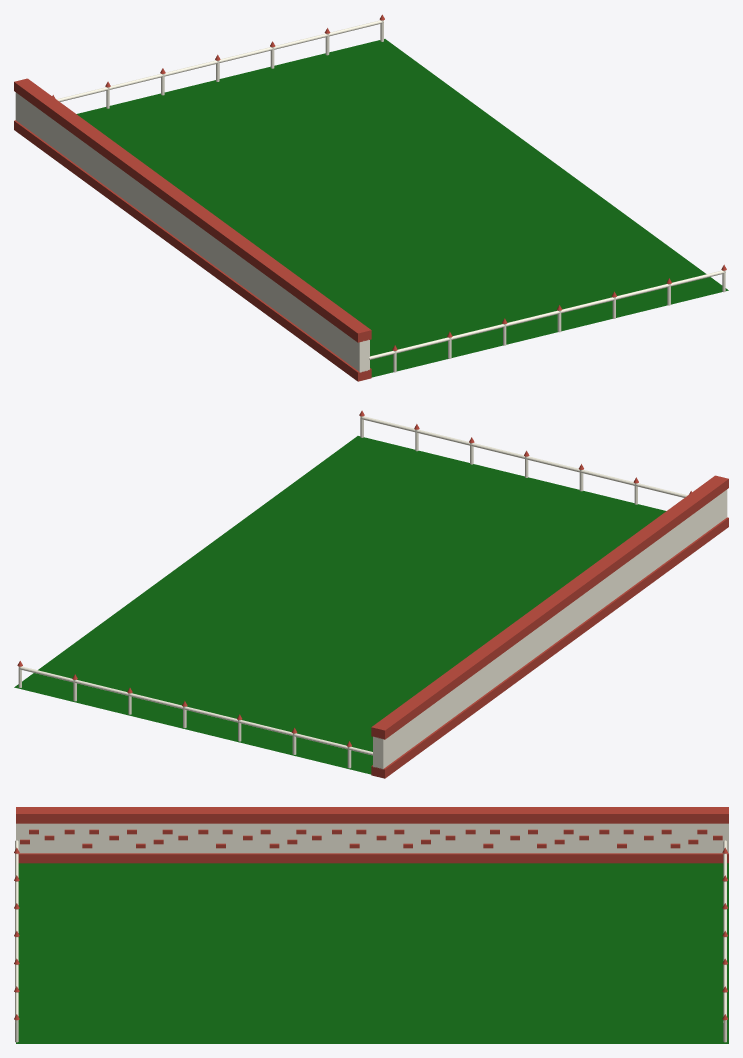
The picture shows the model from 3 angles, top to bottom: view 1: azimuth 30°, elevation 25°; view 2: azimuth 150°, elevation 25°; view 3: azimuth 270°, elevation 25°; orthographic projection. The views are drawn at different scales.
Visible parts, largest first — view 1: Zemin, Duvar_1, Duvar_2, Duvar_3, Cylinder.001, Cylinder.003, Cylinder; view 2: Zemin, Duvar_1, Duvar_3, Duvar_2, Cylinder.003, Cylinder.001, Cylinder.002; view 3: Zemin, Duvar_1, Duvar_2, Duvar_3, Cylinder.001, Cylinder.003.
Part boxes in pixels (<box>): Zemin: <box>76,39,728,377</box>; Duvar_1: <box>14,78,371,381</box>; Duvar_2: <box>57,110,349,365</box>; Duvar_3: <box>35,94,328,349</box>; Cylinder.001: <box>369,270,725,359</box>; Cylinder.003: <box>56,20,383,101</box>; Cylinder: <box>393,270,725,372</box>; Zemin: <box>14,436,666,774</box>; Duvar_1: <box>371,475,728,778</box>; Duvar_3: <box>393,507,685,762</box>; Duvar_2: <box>414,491,707,746</box>; Cylinder.003: <box>18,666,372,755</box>; Cylinder.001: <box>360,416,687,497</box>; Cylinder.002: <box>18,666,351,768</box>; Zemin: <box>16,863,728,1043</box>; Duvar_1: <box>16,807,728,863</box>; Duvar_2: <box>60,807,639,863</box>; Duvar_3: <box>105,807,684,863</box>; Cylinder.001: <box>15,840,18,1022</box>; Cylinder.003: <box>723,840,726,1022</box>.
Size of the model in its own units: 19.93 by 2.47 by 32.1.
